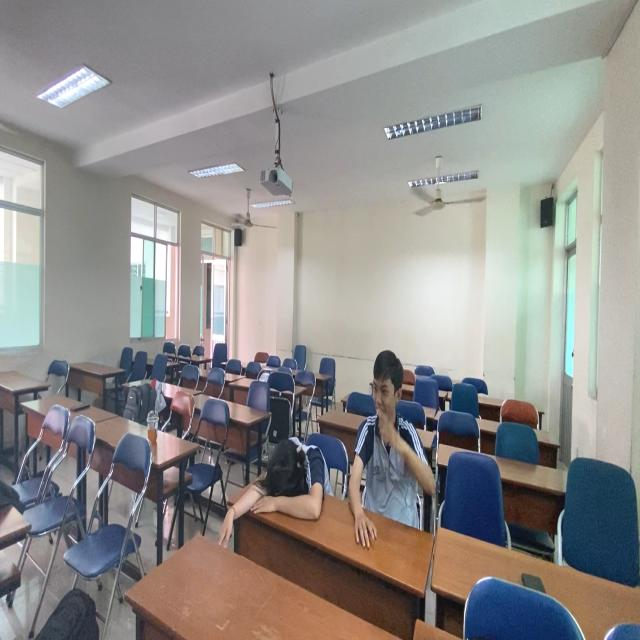sleep: (245, 432, 335, 525)
